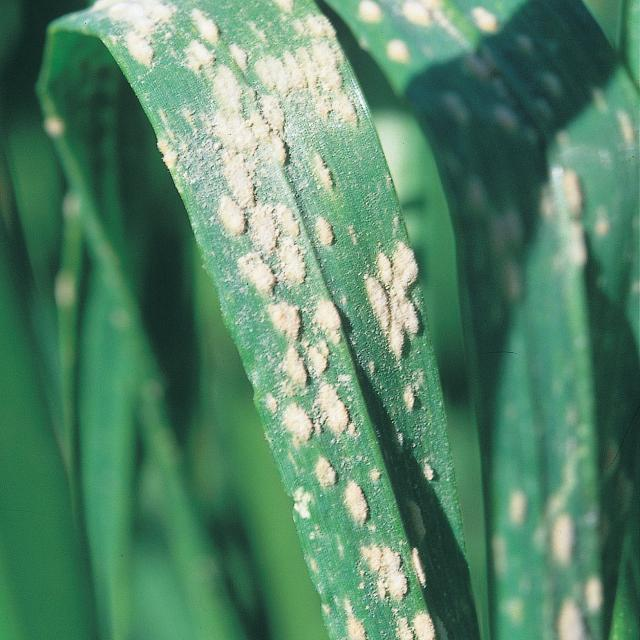Powdery Mildew: (98, 2, 473, 638)
